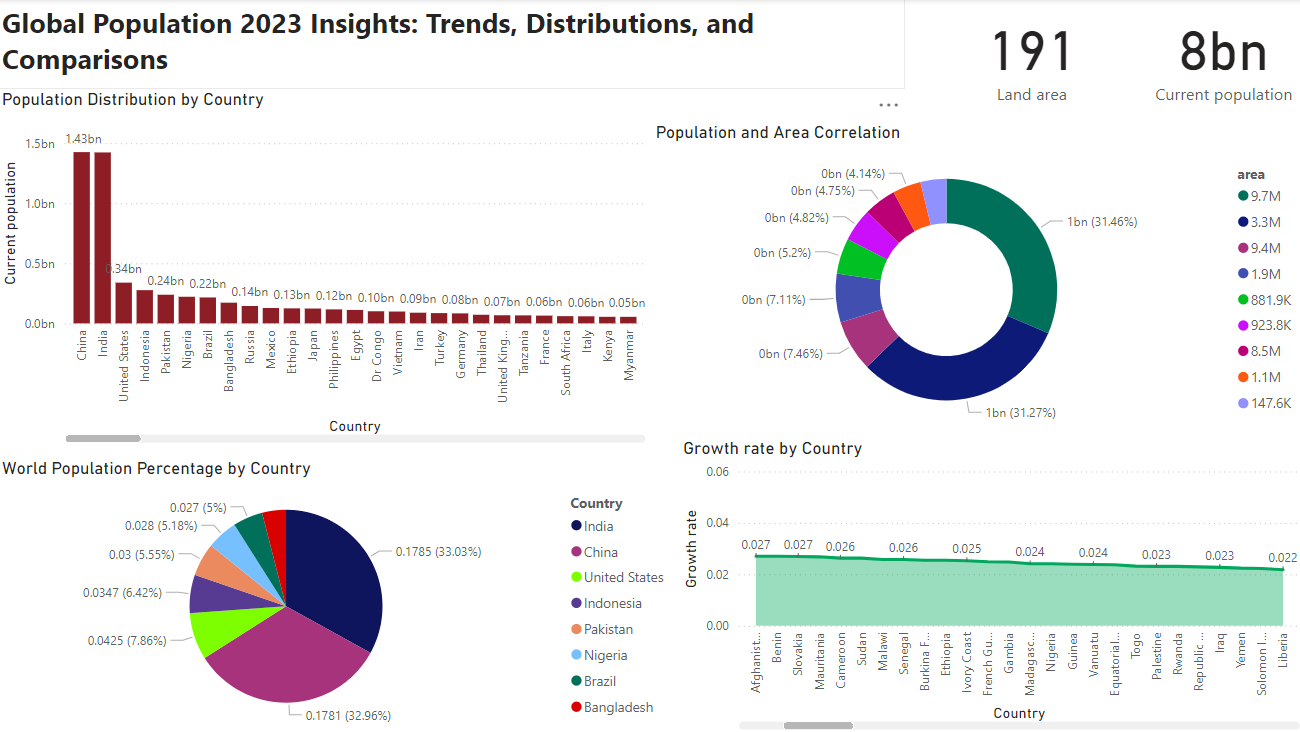

This screenshot's page, from the dashboard's own definition file:
{"tool":"powerbi","page":{"name":"Page 1","canvas":[1280,720],"ordinal":0},"visuals":[{"type":"clusteredColumnChart","title":"Population Distribution by Country","fields":{"Category":["Sheet1.country name"],"Y":["Sum(Sheet1.current population)"]},"box":[0,87.8,639.5,351.3],"z":0},{"type":"lineChart","fields":{"Y":["Sum(Sheet1.growth rate)"],"Category":["Sheet1.country name"]},"box":[666.9,429.5,613.4,290.9],"z":1000},{"type":"pieChart","title":"World Population Percentage by Country","fields":{"Category":["Sheet1.country name"],"Y":["Sum(Sheet1.world percentage)"]},"box":[0,448.7,666.9,271.7],"z":2000},{"type":"donutChart","title":"Population and Area Correlation","fields":{"Category":["Sheet1.area"],"Y":["Sum(Sheet1.population 2022)"]},"box":[639.5,119.4,640.8,310.1],"z":3000},{"type":"textbox","box":[0,0,887.8,87.8],"z":4000},{"type":"card","fields":{"Values":["Sum(Sheet1.current population)"]},"box":[1119.7,0,160.5,108.4],"z":5000},{"type":"card","fields":{"Values":["Count(Sheet1.land area)"]},"box":[904.3,0,215.4,108.4],"z":6000}]}

Visuals, with their boxes in screenshot pixels (x1, y1, x2, y2), scaled from the page's 1280x720 canvas onto the 1300x732 screenshot:
"Population Distribution by Country" clusteredColumnChart: detection(0, 89, 649, 446)
lineChart - Sum(Sheet1.growth rate) x Sheet1.country name: detection(677, 437, 1299, 731)
"World Population Percentage by Country" pieChart: detection(0, 456, 677, 731)
"Population and Area Correlation" donutChart: detection(649, 121, 1299, 437)
textbox: detection(0, 0, 902, 89)
card - Sum(Sheet1.current population): detection(1137, 0, 1299, 110)
card - Count(Sheet1.land area): detection(918, 0, 1137, 110)
